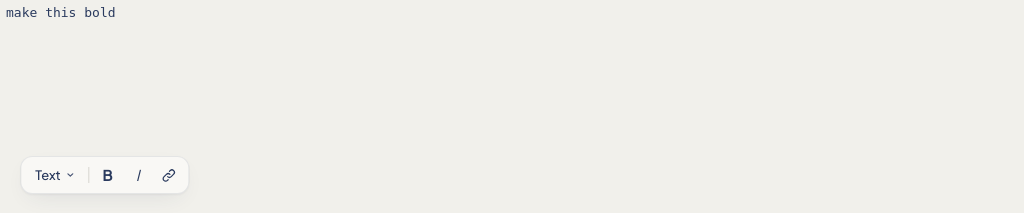
Test: SelectionToolbar › formats the selection without Ask AI when AI isn't configured
Click the button named "Bold": [108, 175] box [94,161,122,189]
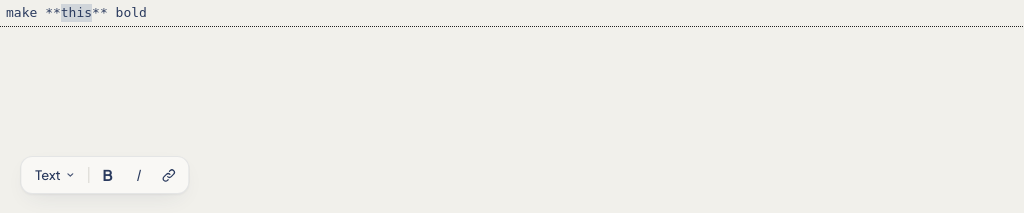
Expected: the button named "Italic" is shown, [124,161,152,189]
Result: the text box labelled "make **this** bold" is shown at [6,5,147,20]
